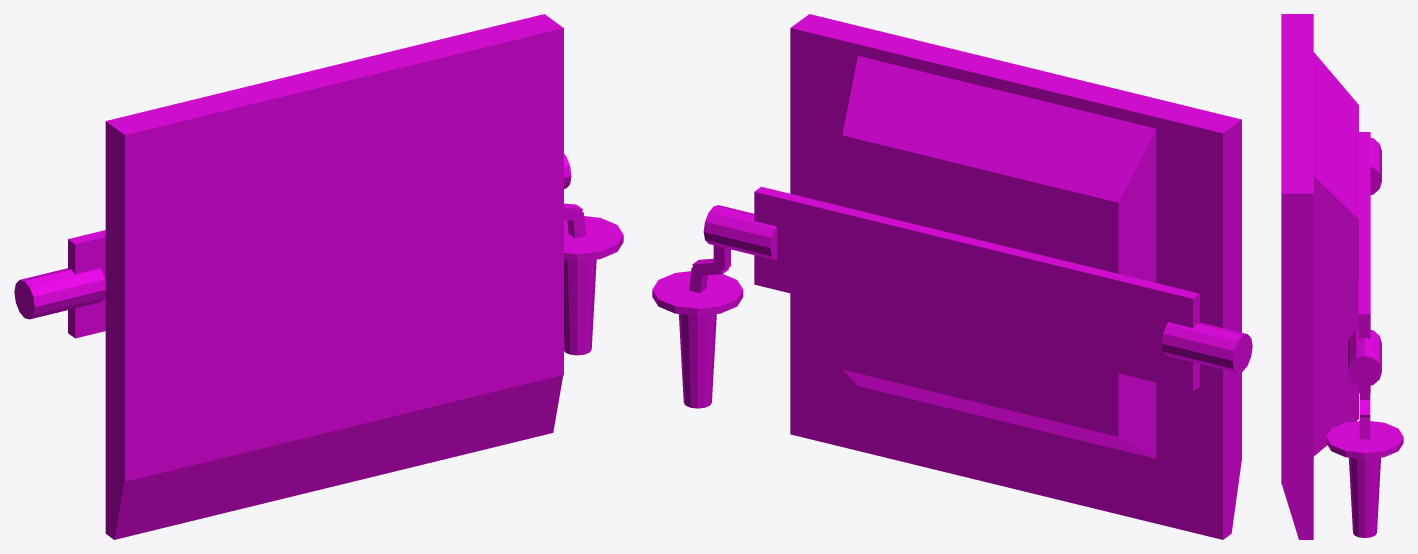
File: SM_FlatPanelBoomMonitorCollider.fbx
3 views of the same model, side by side, from view 1: azimuth 30°, elevation 25°; view 2: azimuth 150°, elevation 25°; view 3: azimuth 270°, elevation 25° (orthographic). The views are drawn at different scales.
Visible parts, largest first — view 1: FlatPanelBoomMonitorCollision; view 2: FlatPanelBoomMonitorCollision; view 3: FlatPanelBoomMonitorCollision.
Boxes of the visible parts, left/top/right/bottom form: FlatPanelBoomMonitorCollision: left=14, top=14, right=623, bottom=539; FlatPanelBoomMonitorCollision: left=652, top=14, right=1252, bottom=539; FlatPanelBoomMonitorCollision: left=1281, top=14, right=1403, bottom=539.
Bounding box in the file's own units: 53.27 × 35.42 × 11.36.
